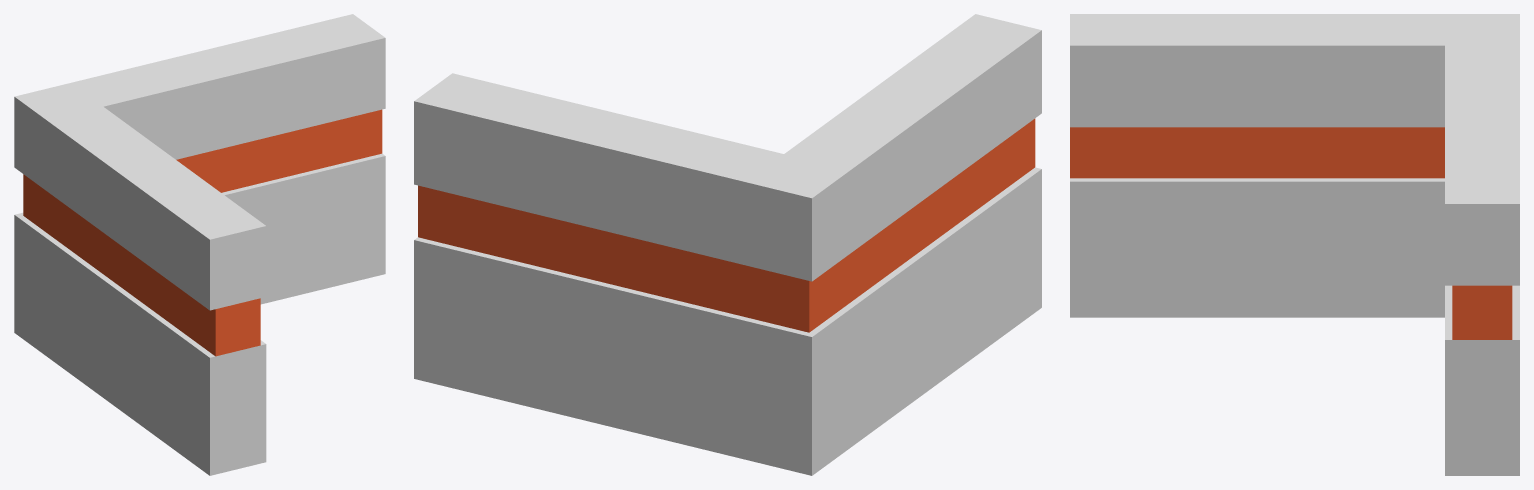
Rendered from Commisary Corner.obj.
3 views of the same model, side by side, from view 1: azimuth 30°, elevation 25°; view 2: azimuth 150°, elevation 25°; view 3: azimuth 270°, elevation 25° (orthographic). The views are drawn at different scales.
Size of the model in its own units: 60 by 40 by 60.
1 material, 1 textured.
